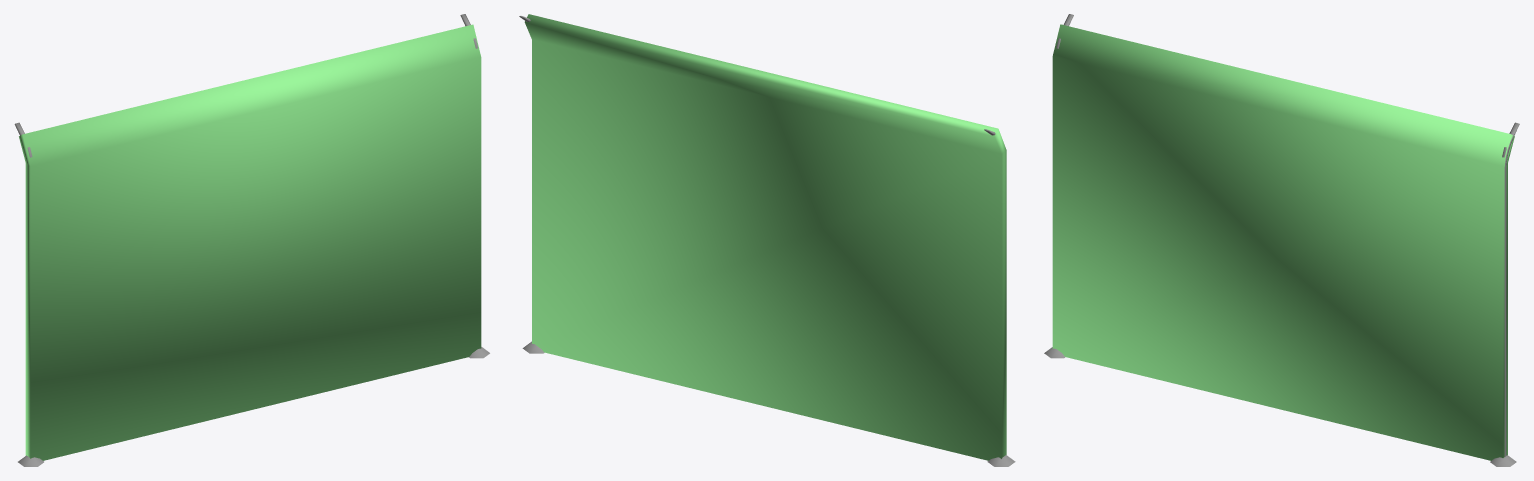
Rendered from standardfence.gltf.
The picture shows the model from 3 angles, left to right: view 1: azimuth 30°, elevation 25°; view 2: azimuth 150°, elevation 25°; view 3: azimuth 330°, elevation 25°; orthographic projection. The views are drawn at different scales.
Visible parts, largest first — view 1: standardfence; view 2: standardfence; view 3: standardfence.
Part boxes in pixels (x1,y1,x2,y2): standardfence: (14, 14, 489, 466); standardfence: (519, 14, 1015, 466); standardfence: (1044, 14, 1519, 466).
Bounding box in the file's own units: 4.2 × 2.83 × 0.3301.
